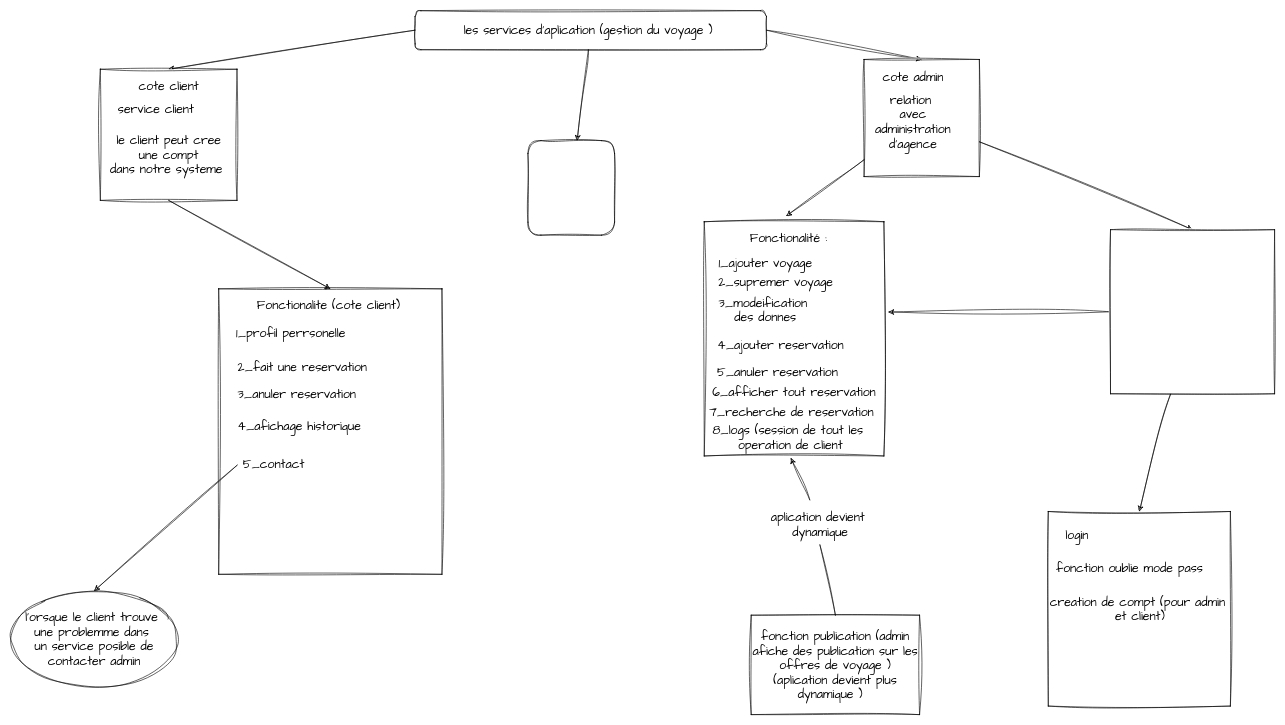
This 1285x725 diagram has some shape labels left out. Each missing label, with the centre of its shape:
"login (autontifcation d'admin apartir ) -emailprofesionelle -password" goes at point 1192,311.
"objectif aplication de gestion des voyages organise" goes at point 571,187.
